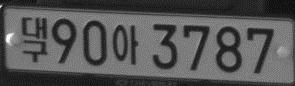0: (82, 19, 107, 65)
3: (152, 23, 178, 69)
7: (246, 27, 274, 73), (182, 24, 210, 69)
8: (214, 25, 243, 73)
9: (51, 17, 76, 63)
대구_V: (21, 16, 48, 62)
아: (112, 23, 138, 66)
